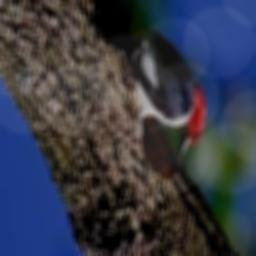Woodpecker: (92, 0, 206, 167)
